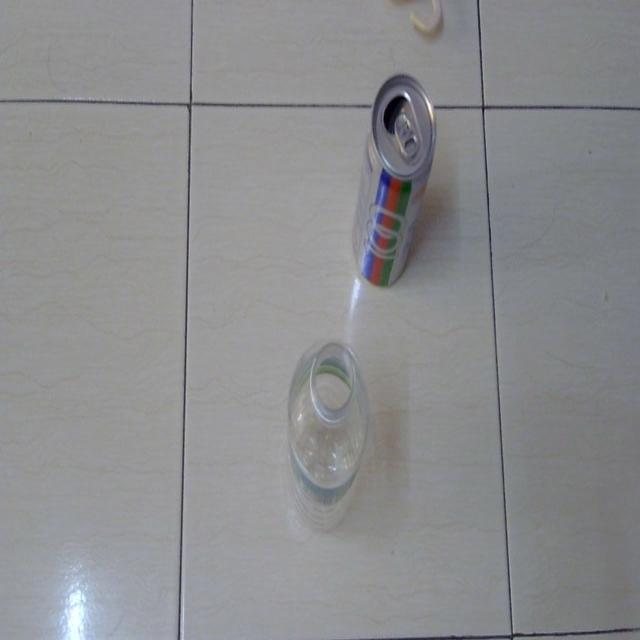metal_standrotation: (350, 73, 437, 288)
plastic_standrotation: (280, 328, 374, 536)
